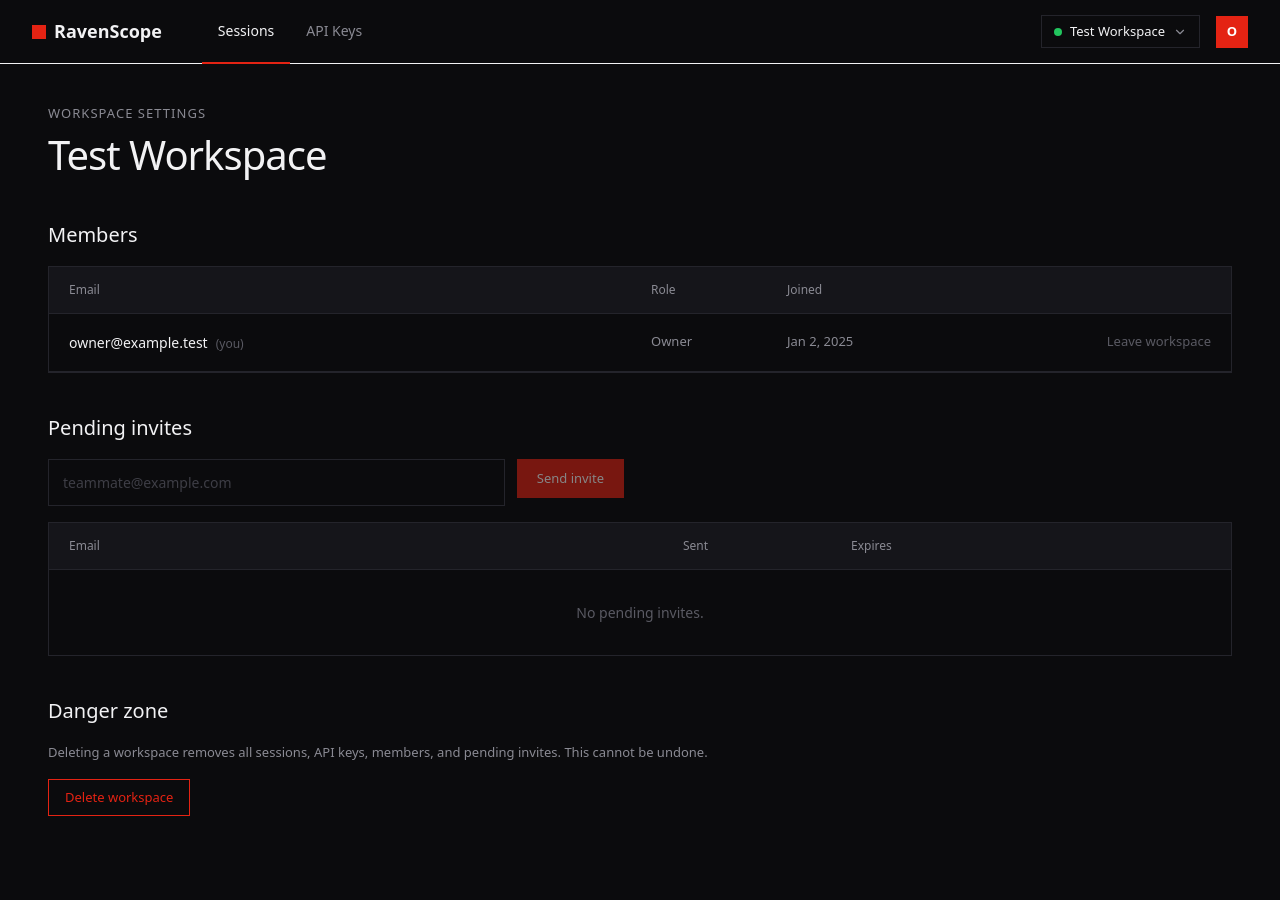
Test: WorkspaceSettings — owner view › sending an invite invalidates the list so new row is fetched
Check: the text "No pending invites." is shown, box [576,602,704,622]
Type "member@example.test" into the field with placeholder "teammate@example.com" at (276, 482), box [48,458,505,506]
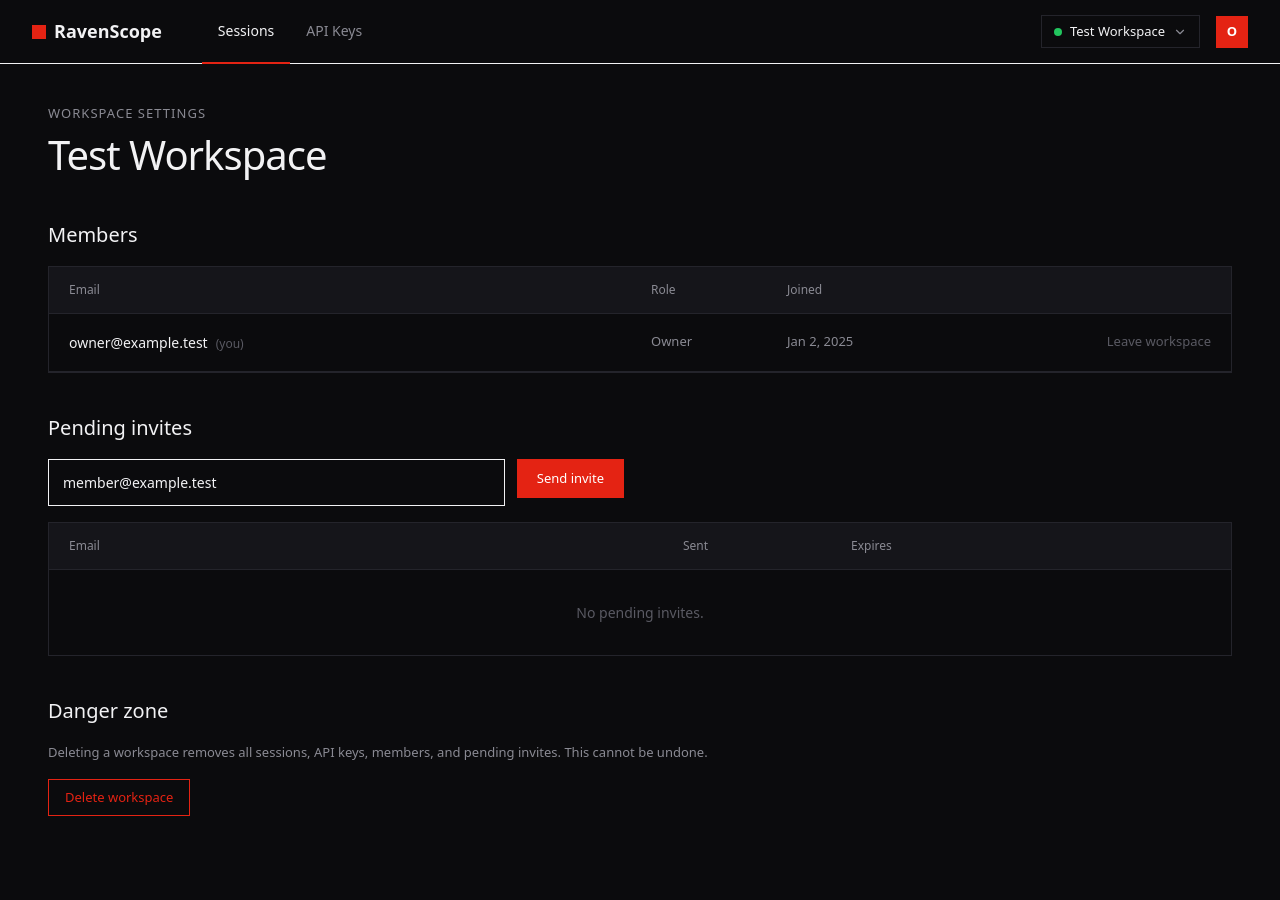
Click the button "Send invite" at (570, 478), box [517,458,624,498]
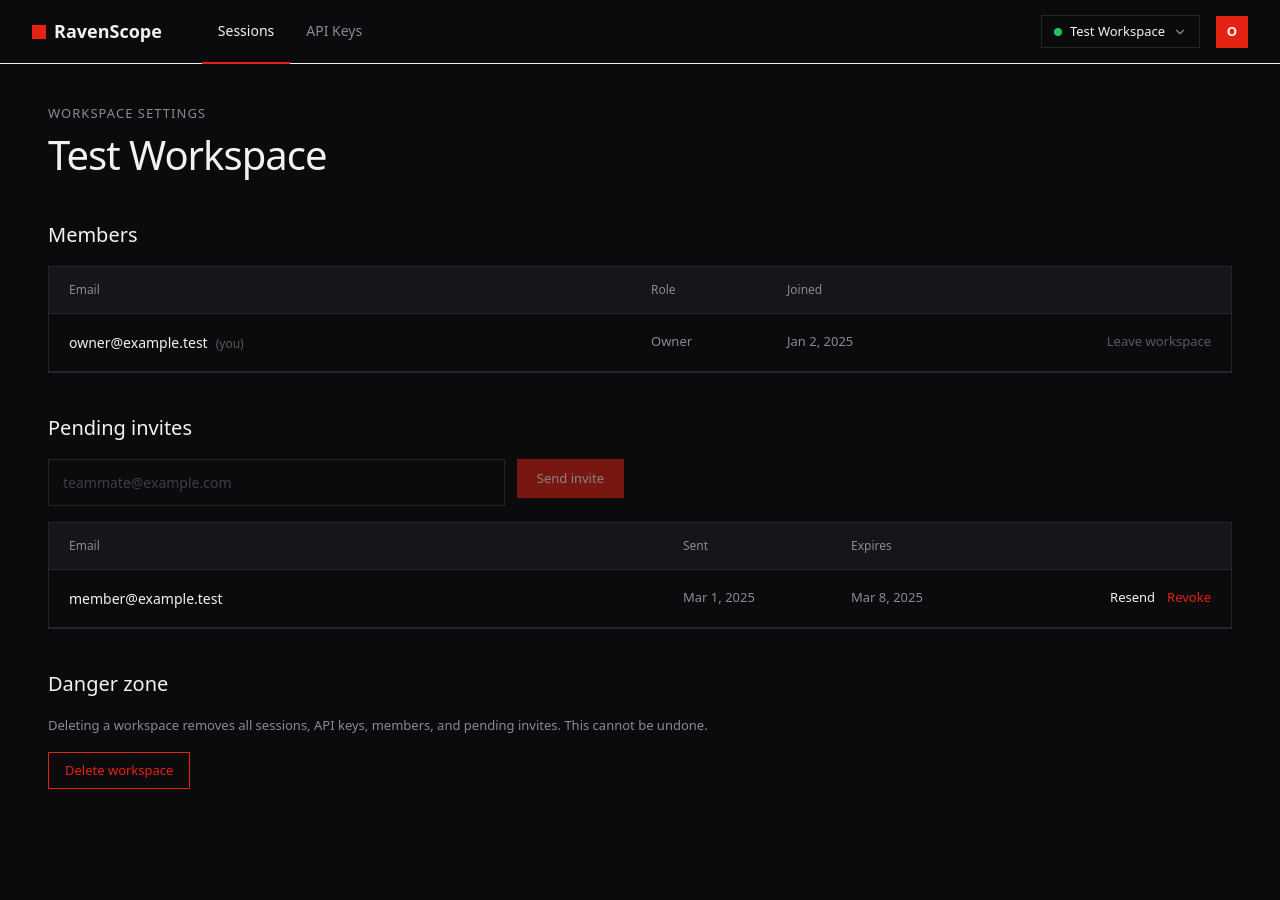
Check: the text "member@example.test" is shown, box [69,588,222,608]
